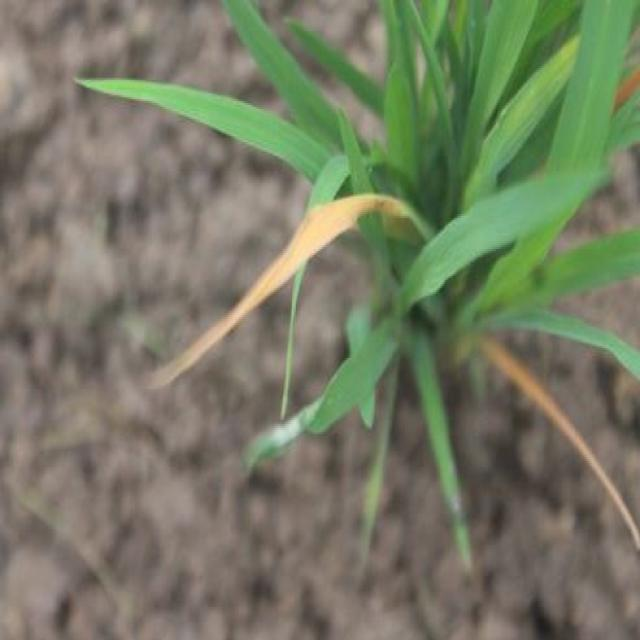Tungro: (152, 183, 400, 418), (485, 338, 640, 547)
